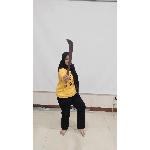Golok: (62, 36, 76, 90)
